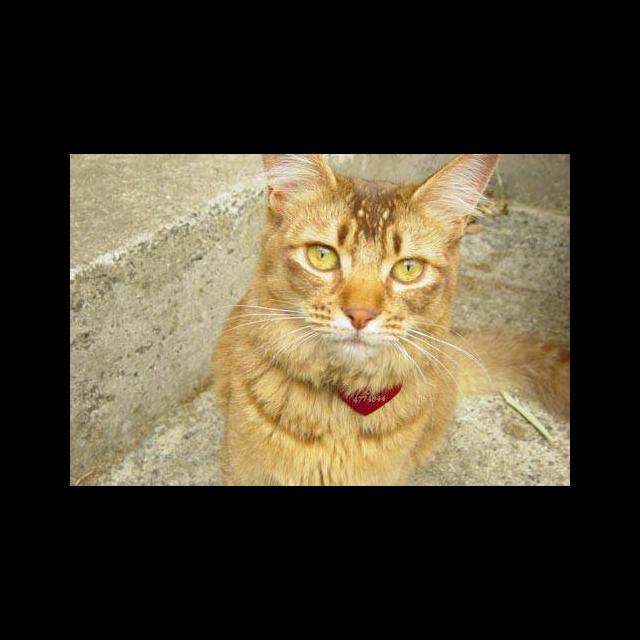animals: (269, 154, 499, 329)
